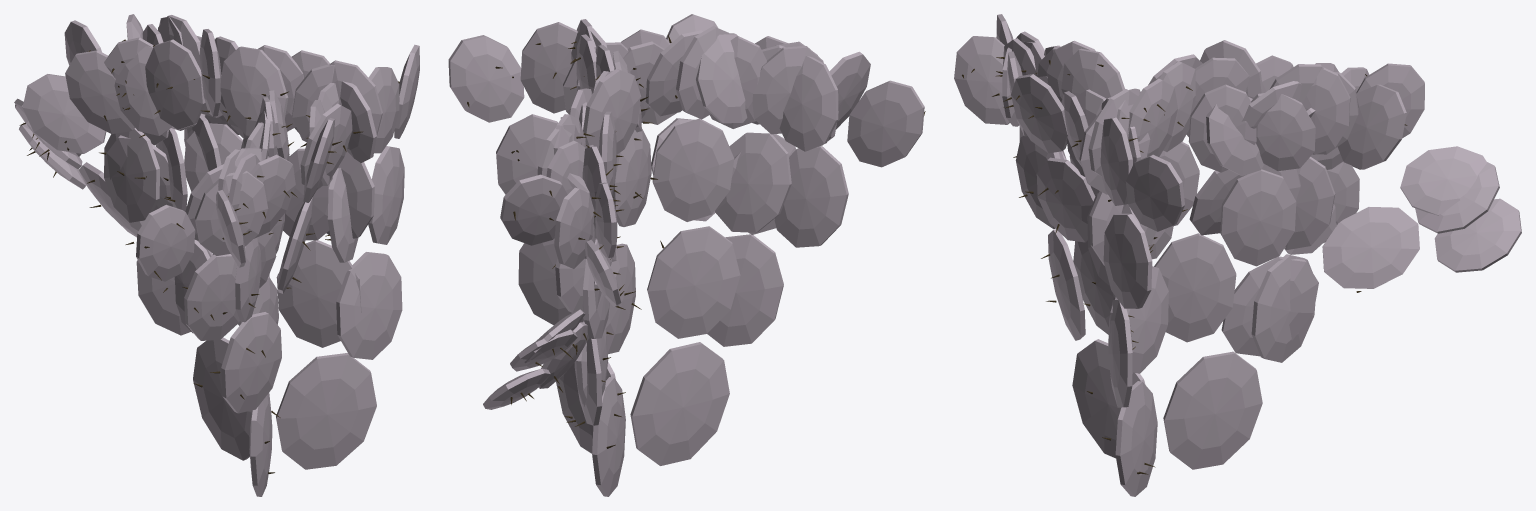
File: prickly_pear_v02.fbx
3 renders of one model, left to right at view 1: azimuth 30°, elevation 25°; view 2: azimuth 150°, elevation 25°; view 3: azimuth 270°, elevation 25°, orthographic. The views are drawn at different scales.
Visible parts, largest first — view 1: prickly_pear_v02; view 2: prickly_pear_v02; view 3: prickly_pear_v02.
Boxes of the visible parts, x1,y1,x2,y2 form: prickly_pear_v02: (14, 14, 419, 496); prickly_pear_v02: (448, 14, 925, 496); prickly_pear_v02: (954, 14, 1521, 496).
Bounding box in the file's own units: 62.26 × 67.29 × 82.7.
Materials: 2 (1 with a texture image).
